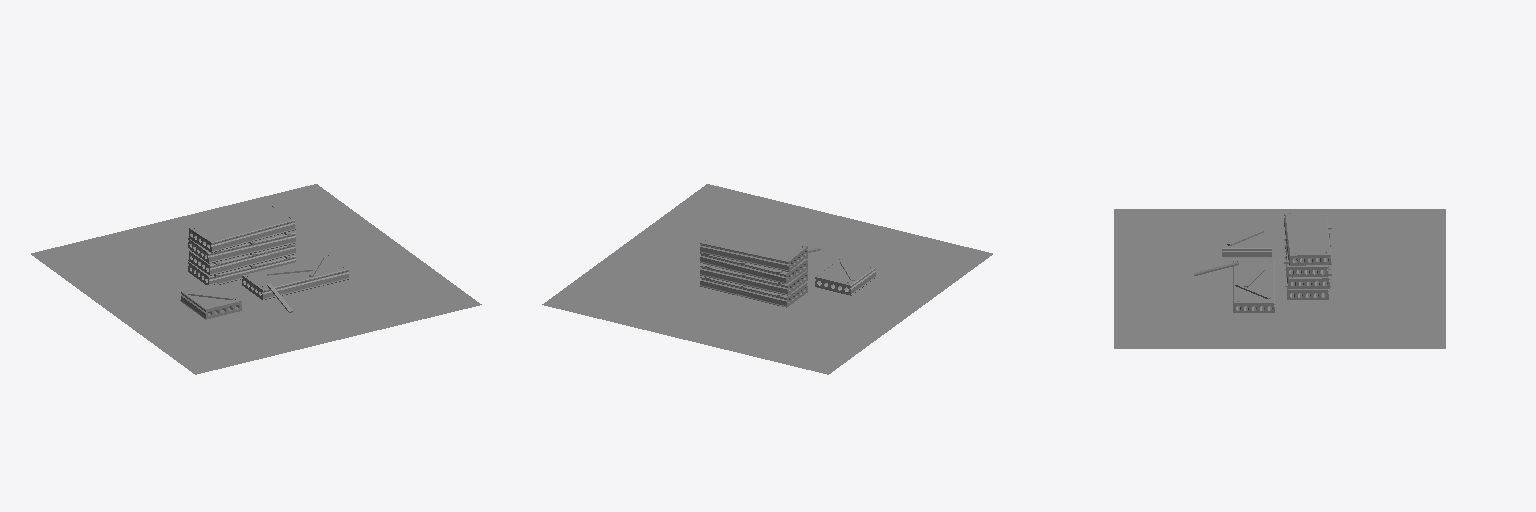
The model's file is concrete_slab_1.obj.
3 views of the same model, side by side, from view 1: azimuth 30°, elevation 25°; view 2: azimuth 150°, elevation 25°; view 3: azimuth 270°, elevation 25° (orthographic).
Visible parts, largest first — view 1: Plane001, concrete_slab_4, concrete_slab_1, concrete_slab_little; view 2: Plane001, concrete_slab_4, concrete_slab_little; view 3: Plane001, concrete_slab_4, concrete_slab_1, concrete_slab_little.
Part boxes in pixels (x1,y1,x2,y2): Plane001: (31, 184, 481, 374); concrete_slab_4: (188, 205, 295, 284); concrete_slab_1: (242, 254, 349, 312); concrete_slab_little: (180, 283, 241, 319); Plane001: (542, 184, 992, 374); concrete_slab_4: (700, 227, 807, 307); concrete_slab_little: (815, 259, 875, 295); Plane001: (1114, 209, 1445, 348); concrete_slab_4: (1284, 213, 1331, 299); concrete_slab_1: (1194, 261, 1274, 312); concrete_slab_little: (1222, 230, 1271, 257).
Size of the model in its own units: 405 by 63.17 by 405.